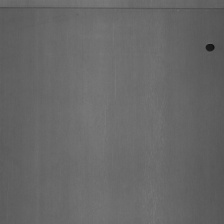welding_line: (0, 2, 224, 19), (203, 39, 218, 56)
